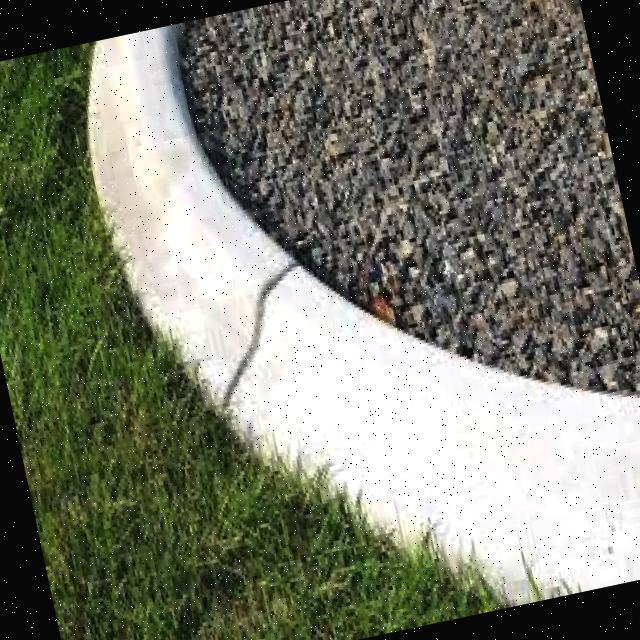curb: (188, 231, 552, 568), (61, 22, 294, 403), (396, 402, 640, 625)
